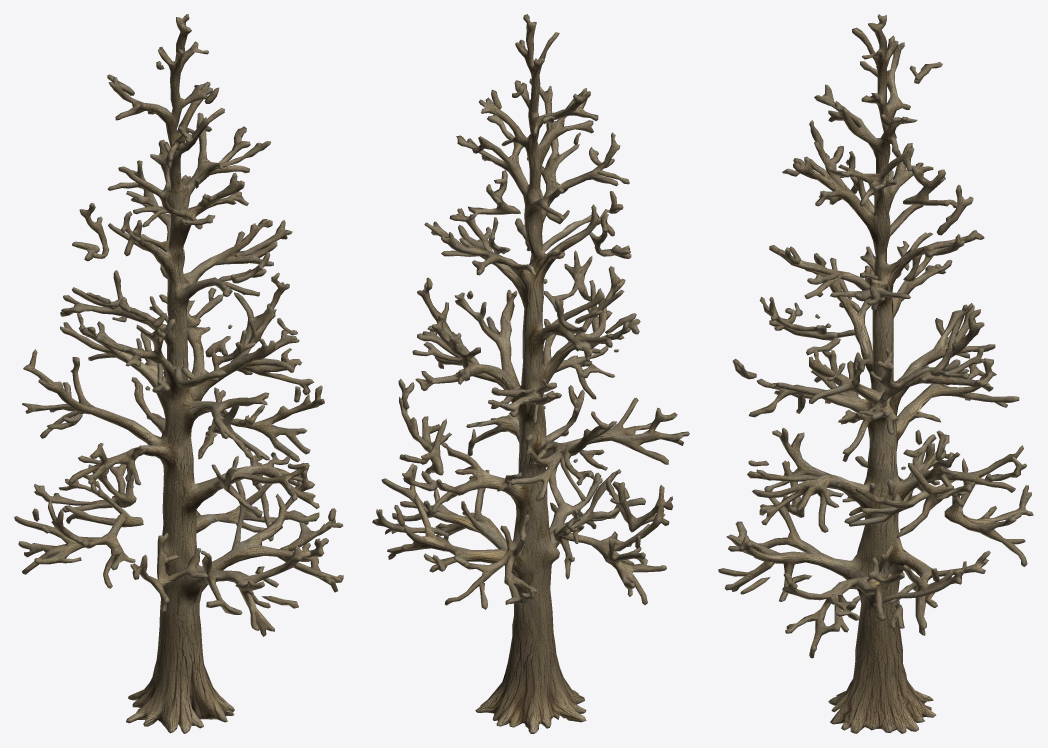
Rendered from winter_tree.glb.
3 renders of one model, left to right at view 1: azimuth 30°, elevation 25°; view 2: azimuth 150°, elevation 25°; view 3: azimuth 270°, elevation 25°, orthographic.
Size of the model in its own units: 0.8141 by 1.91 by 0.775.
1 material, 1 textured.
